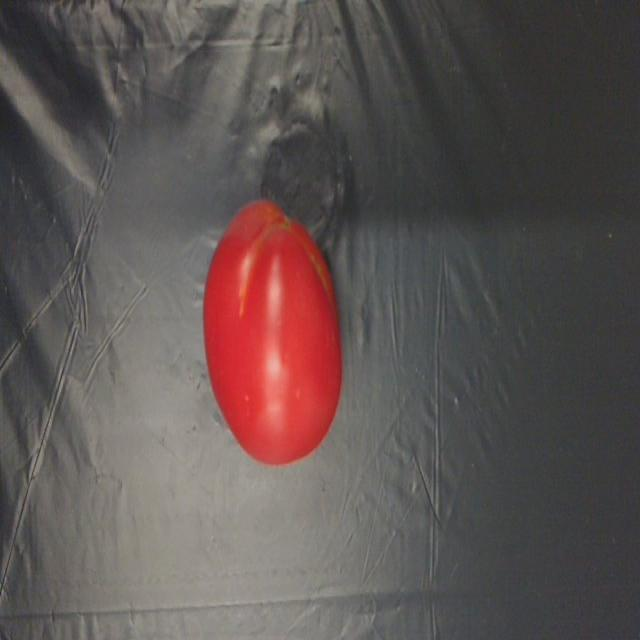kirmizi: (180, 172, 406, 472)
